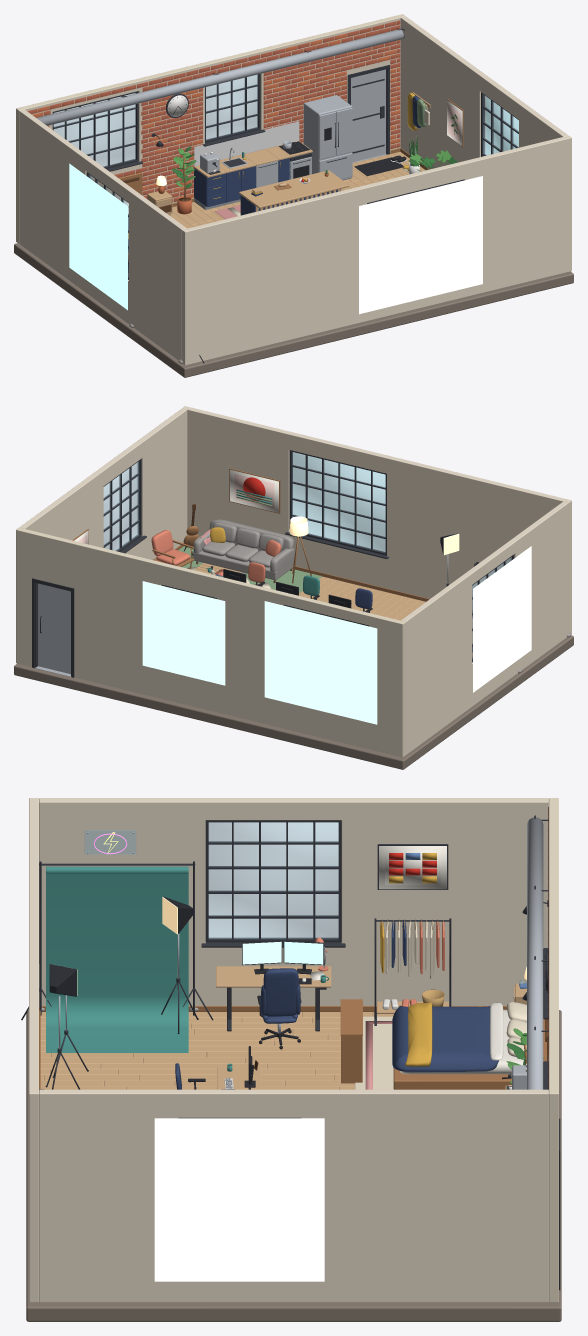
File: tier3.glb
3 renders of one model, top to bottom at view 1: azimuth 30°, elevation 25°; view 2: azimuth 150°, elevation 25°; view 3: azimuth 270°, elevation 25°, orthographic. The views are drawn at different scales.
Parts seen in each view (by area): view 1: wall_s, wall_w, wall_n_trim, decor_s_mesh, decor_n_mesh, wall_e, wall_n, slab, decor_w_mesh, kitchen_mesh, door_mesh, fridge_mesh (+6 smaller); view 2: wall_n, wall_s, decor_n_mesh, wall_w, wall_e, decor_s_mesh, slab, decor_w_mesh, couch_mesh, door_mesh, decor_e_mesh, floor (+7 smaller); view 3: wall_e, wall_w, floor_decor_mesh, decor_e_mesh, decor_w_mesh, floor, slab, bed_mesh, computer_mesh, decor_n_mesh, wall_n, wall_s (+6 smaller).
Boxes of the visible parts, x1,y1,x2,y2 form: wall_s: (182, 135, 571, 365); wall_w: (19, 109, 186, 360); wall_n_trim: (27, 20, 400, 207); decor_s_mesh: (359, 176, 482, 314); decor_n_mesh: (37, 28, 404, 171); wall_e: (400, 16, 568, 168); wall_n: (16, 14, 405, 243); slab: (14, 153, 573, 377); decor_w_mesh: (69, 163, 128, 310); kitchen_mesh: (194, 141, 312, 209); door_mesh: (347, 65, 389, 162); fridge_mesh: (303, 95, 352, 180); wall_n: (16, 527, 405, 757); wall_s: (182, 406, 571, 633); decor_n_mesh: (142, 581, 377, 724); wall_w: (401, 501, 568, 754); wall_e: (19, 408, 187, 559); decor_s_mesh: (229, 450, 388, 558); slab: (14, 635, 573, 769); decor_w_mesh: (472, 546, 531, 692); couch_mesh: (193, 519, 294, 582); door_mesh: (32, 578, 74, 677); decor_e_mesh: (72, 459, 146, 553); floor: (299, 576, 472, 643); wall_e: (39, 1089, 548, 1302); wall_w: (39, 798, 548, 1006); floor_decor_mesh: (21, 861, 393, 1089); decor_e_mesh: (154, 1118, 324, 1281); decor_w_mesh: (84, 820, 448, 947); floor: (40, 1012, 393, 1089); slab: (26, 1010, 561, 1321); bed_mesh: (392, 1001, 548, 1089); computer_mesh: (216, 937, 331, 1049); decor_n_mesh: (522, 815, 548, 1089); wall_n: (549, 798, 558, 1302); wall_s: (29, 798, 38, 1302).
Size of the model in its own units: 10.74 by 3.7 by 8.24.
